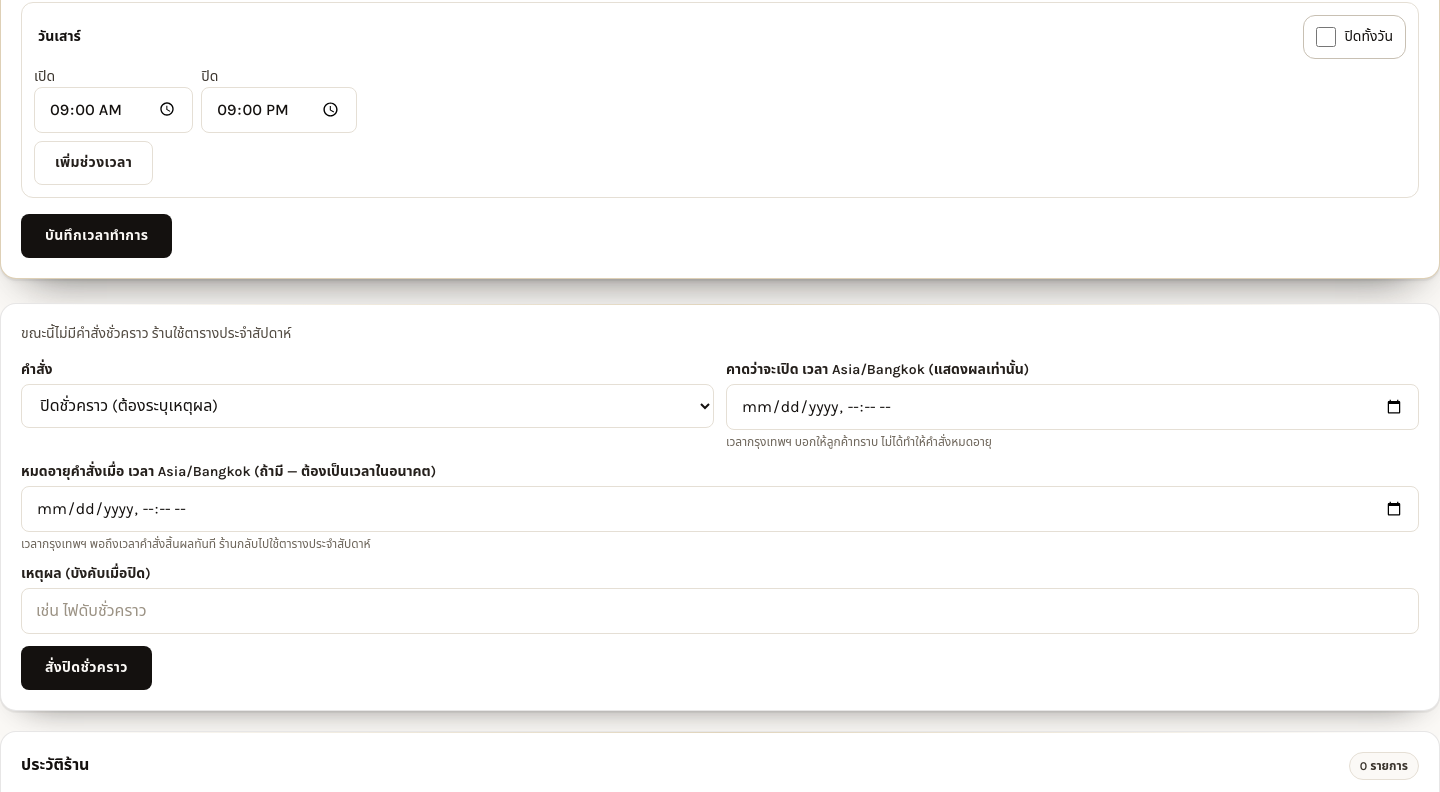
Test: หน้าจัดการร้าน (Owner/Admin) › ตัวอย่าง exact: 2026-09-12T18:30 กรุงเทพ => payload 11:30Z
This screenshot has width=1440, height=792.
(page scrolled)
Select "เปิดชั่วคราว" in the dropdown labelled "คำสั่ง": [368, 406] box left=21, top=384, right=714, bottom=428
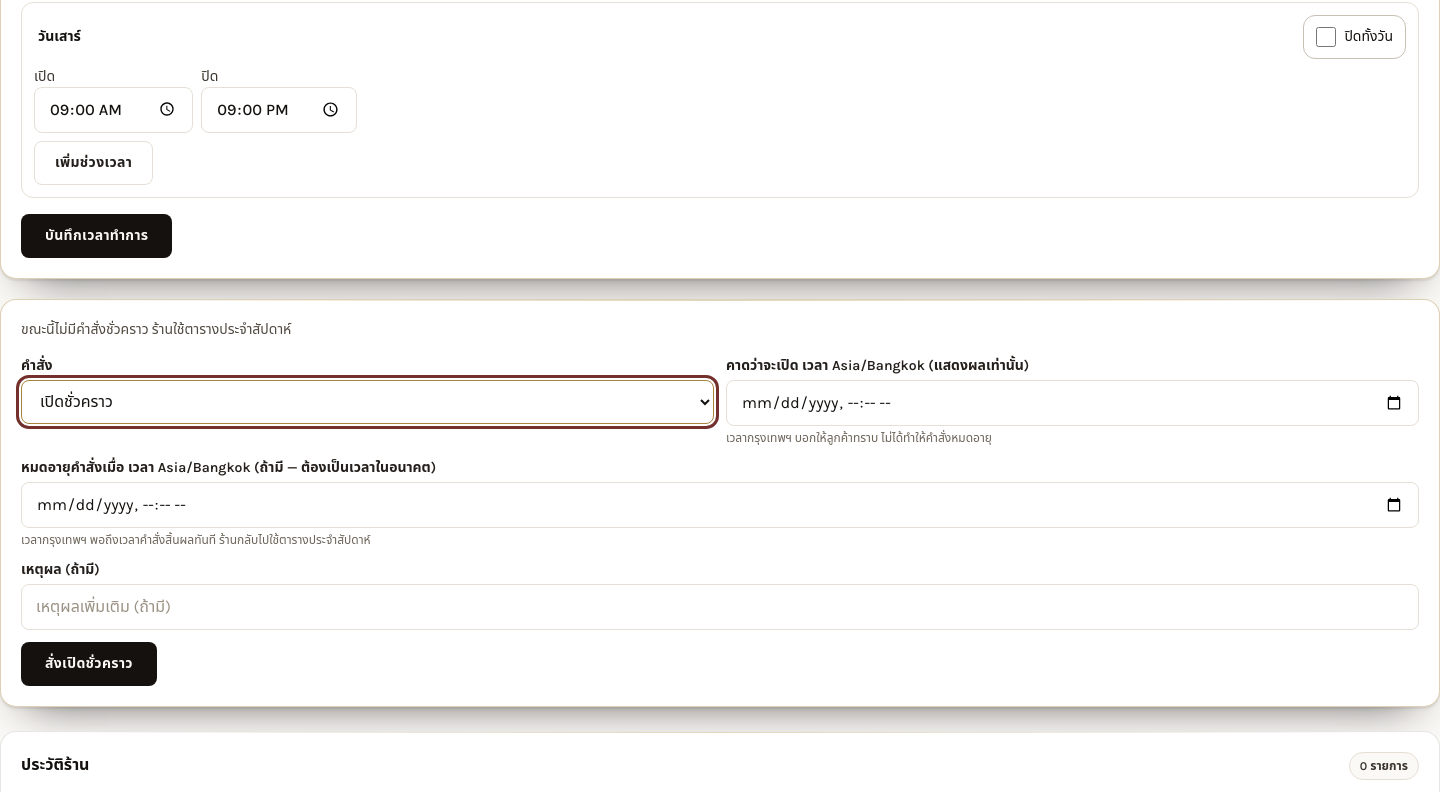
In the field labelled "หมดอายุคำสั่งเมื่อ": [720, 504] box left=21, top=482, right=1419, bottom=528, type "2026-09-12T18:30"
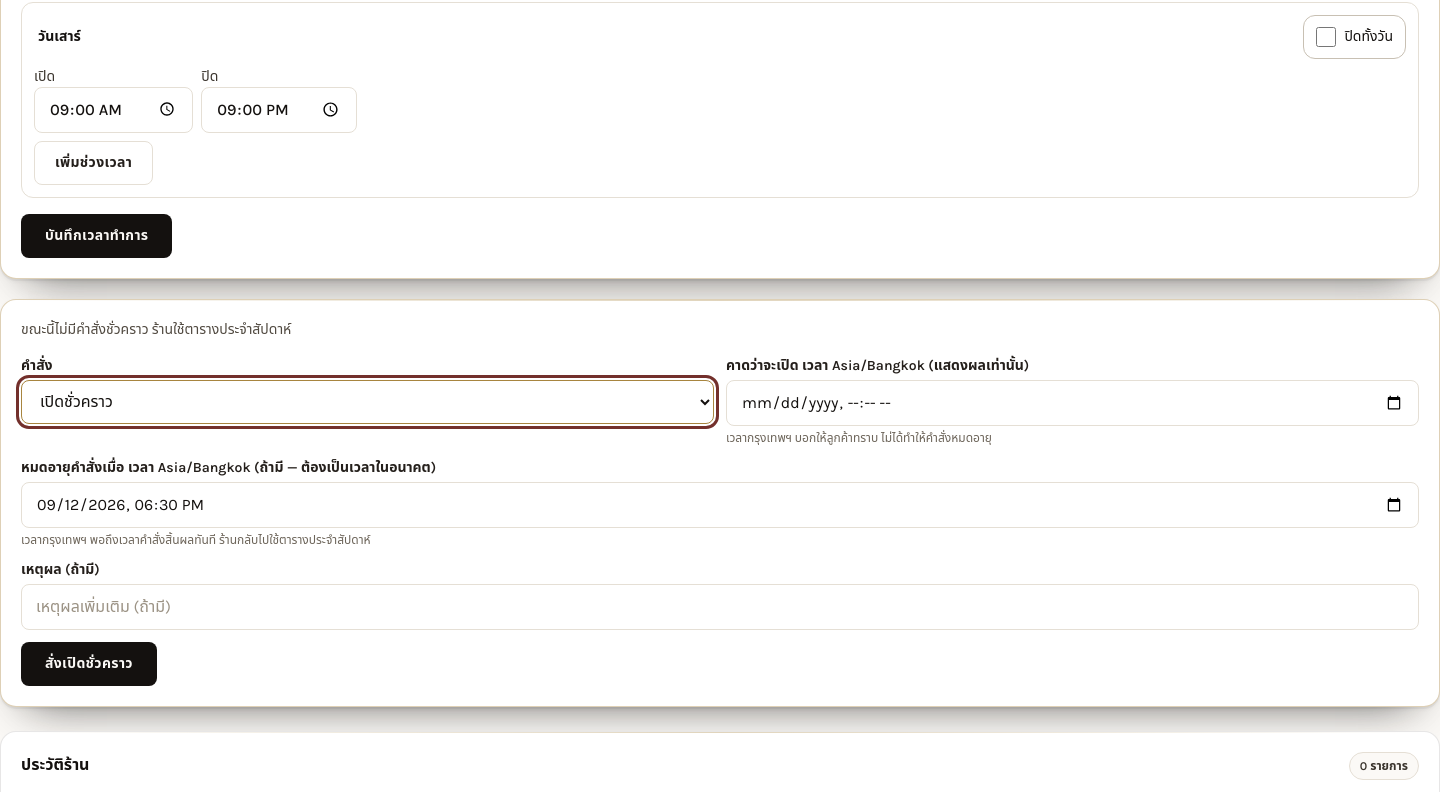
Click the button "สั่งเปิดชั่วคราว": [89, 664] box left=21, top=642, right=157, bottom=686
(page scrolled)
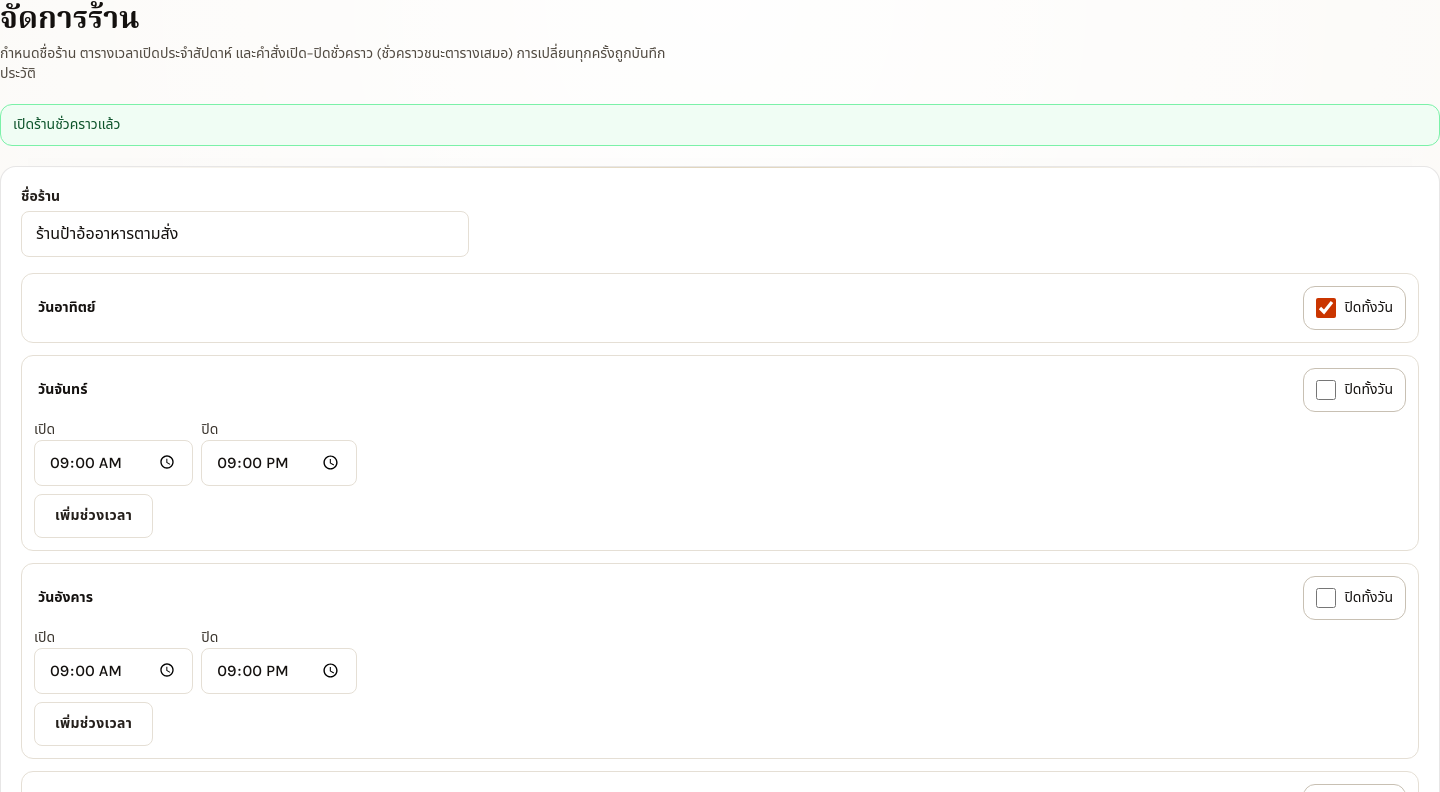
Result: the message reads "เปิดร้านชั่วคราวแล้ว" at left=13, top=116, right=120, bottom=132
